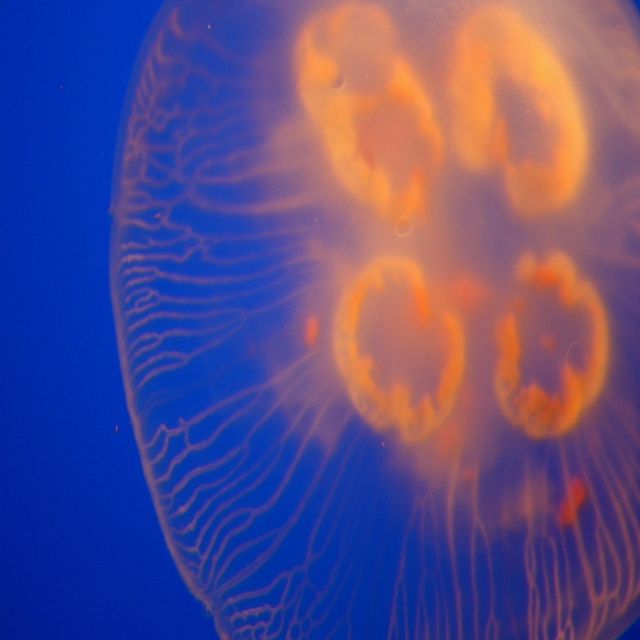Jellyfish: (88, 2, 640, 608)
